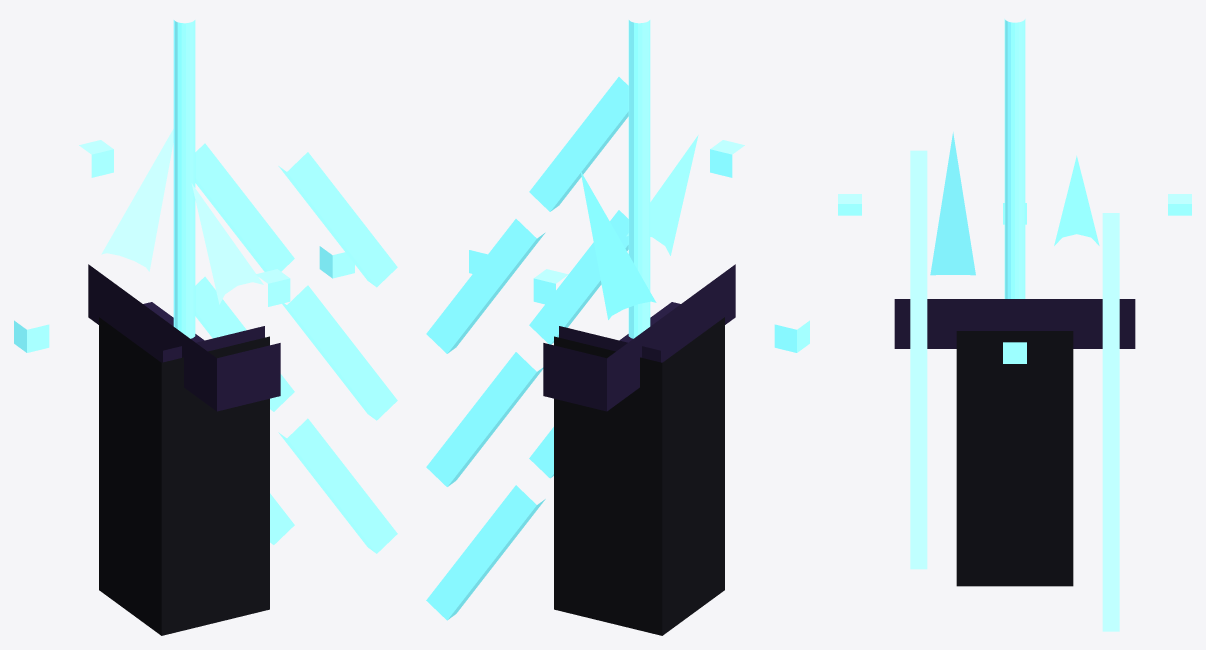
Rendered from leshrac.glb.
3 renders of one model, left to right at view 1: azimuth 30°, elevation 25°; view 2: azimuth 150°, elevation 25°; view 3: azimuth 270°, elevation 25°, orthographic. The views are drawn at different scales.
Visible parts, largest first — view 1: leshrac-replacement-torso, leshrac-replacement-shoulders, leshrac-torment-halo, leshrac-arc-5, leshrac-arc-1, leshrac-arc-3, leshrac-arc-4, leshrac-horn-r, leshrac-horn-l, leshrac-arc-2, leshrac-bone-torso, leshrac-flair-mote-2 (+4 smaller); view 2: leshrac-replacement-torso, leshrac-replacement-shoulders, leshrac-torment-halo, leshrac-arc-0, leshrac-arc-4, leshrac-arc-2, leshrac-arc-5, leshrac-horn-r, leshrac-arc-3, leshrac-horn-l, leshrac-bone-torso, leshrac-flair-mote-2 (+3 smaller); view 3: leshrac-replacement-torso, leshrac-replacement-shoulders, leshrac-torment-halo, leshrac-horn-l, leshrac-arc-4, leshrac-arc-5, leshrac-arc-1, leshrac-arc-0, leshrac-arc-2, leshrac-arc-3, leshrac-horn-r, leshrac-bone-torso (+3 smaller).
Boxes of the visible parts, x1,y1,x2,y2 form: leshrac-replacement-torso: (99, 317, 269, 635); leshrac-replacement-shoulders: (88, 264, 280, 411); leshrac-torment-halo: (173, 20, 195, 338); leshrac-arc-5: (278, 152, 397, 287); leshrac-arc-1: (278, 418, 397, 553); leshrac-arc-3: (282, 285, 397, 420); leshrac-arc-4: (195, 143, 294, 271); leshrac-horn-r: (101, 129, 173, 271); leshrac-horn-l: (191, 183, 263, 304); leshrac-arc-2: (195, 276, 294, 411); leshrac-bone-torso: (104, 308, 264, 362); leshrac-flair-mote-2: (14, 320, 49, 352); leshrac-replacement-torso: (554, 317, 724, 635); leshrac-replacement-shoulders: (543, 264, 735, 411); leshrac-torment-halo: (628, 20, 650, 338); leshrac-arc-0: (426, 485, 545, 620); leshrac-arc-4: (426, 219, 545, 353); leshrac-arc-2: (426, 352, 543, 486); leshrac-arc-5: (529, 77, 628, 211); leshrac-horn-r: (580, 170, 656, 319); leshrac-arc-3: (529, 210, 628, 344); leshrac-horn-l: (626, 135, 698, 255); leshrac-bone-torso: (559, 308, 719, 362); leshrac-flair-mote-2: (774, 320, 809, 352); leshrac-replacement-torso: (956, 331, 1073, 586); leshrac-replacement-shoulders: (894, 299, 1135, 348); leshrac-torment-halo: (1004, 19, 1025, 298); leshrac-horn-l: (930, 132, 975, 275); leshrac-arc-4: (1102, 213, 1119, 382); leshrac-arc-5: (910, 150, 927, 319); leshrac-arc-1: (910, 444, 927, 569); leshrac-arc-0: (1102, 507, 1119, 631); leshrac-arc-2: (1102, 382, 1119, 506); leshrac-arc-3: (910, 320, 927, 444); leshrac-horn-r: (1054, 155, 1099, 245); leshrac-bone-torso: (960, 320, 1069, 330).
Bounding box in the file's own units: 1.03 × 1.78 × 1.03.
